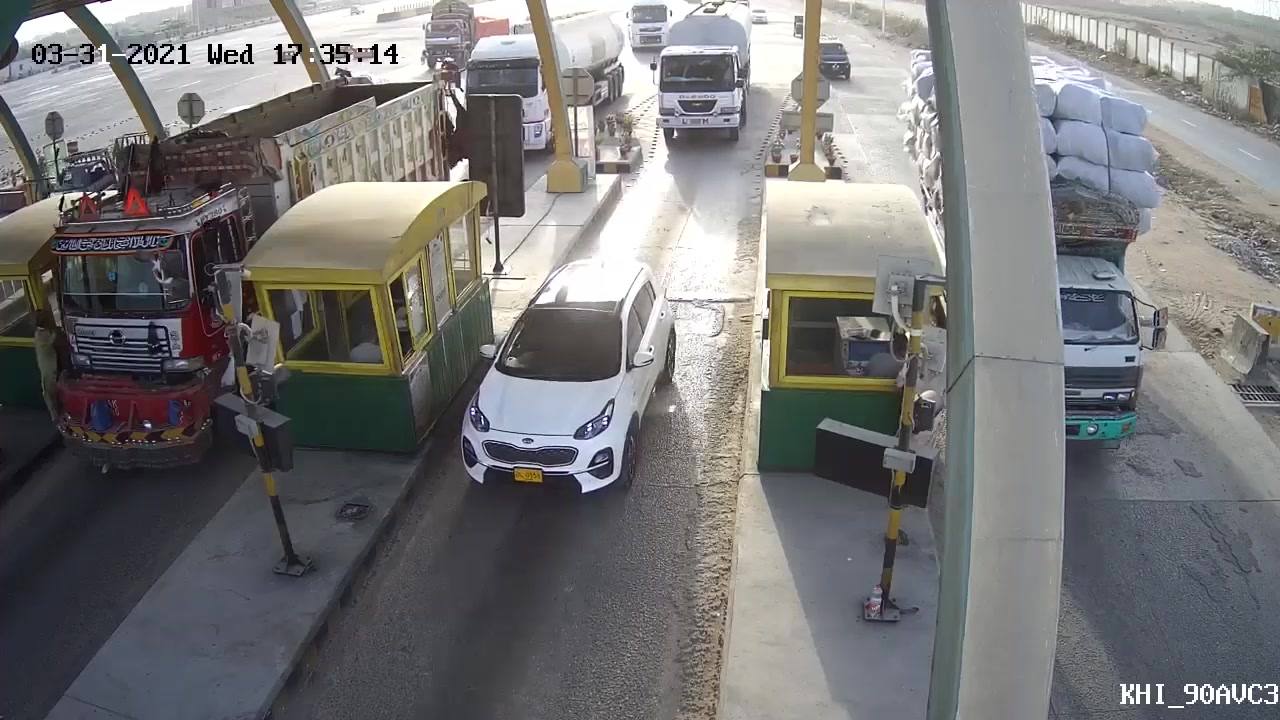F1: (431, 255, 681, 508)
